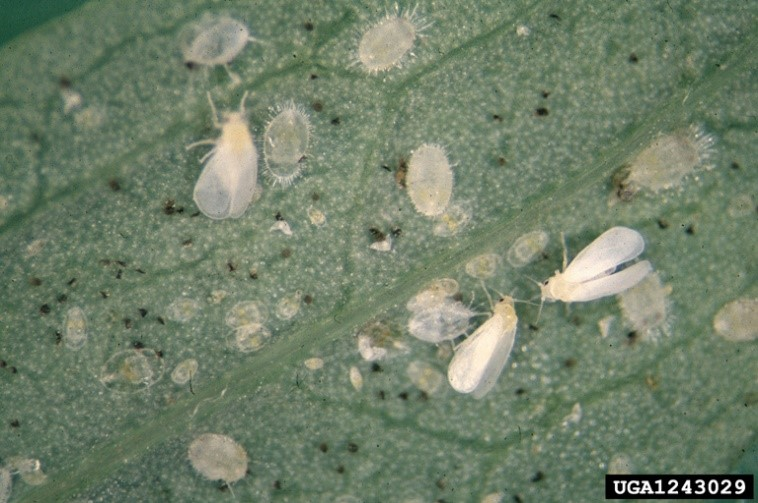Tobacco Whitefly: (175, 73, 282, 232), (537, 227, 661, 326), (445, 281, 530, 408)
